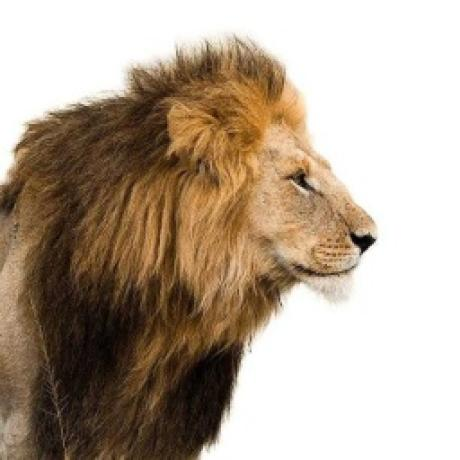Lion: (0, 36, 381, 460)
